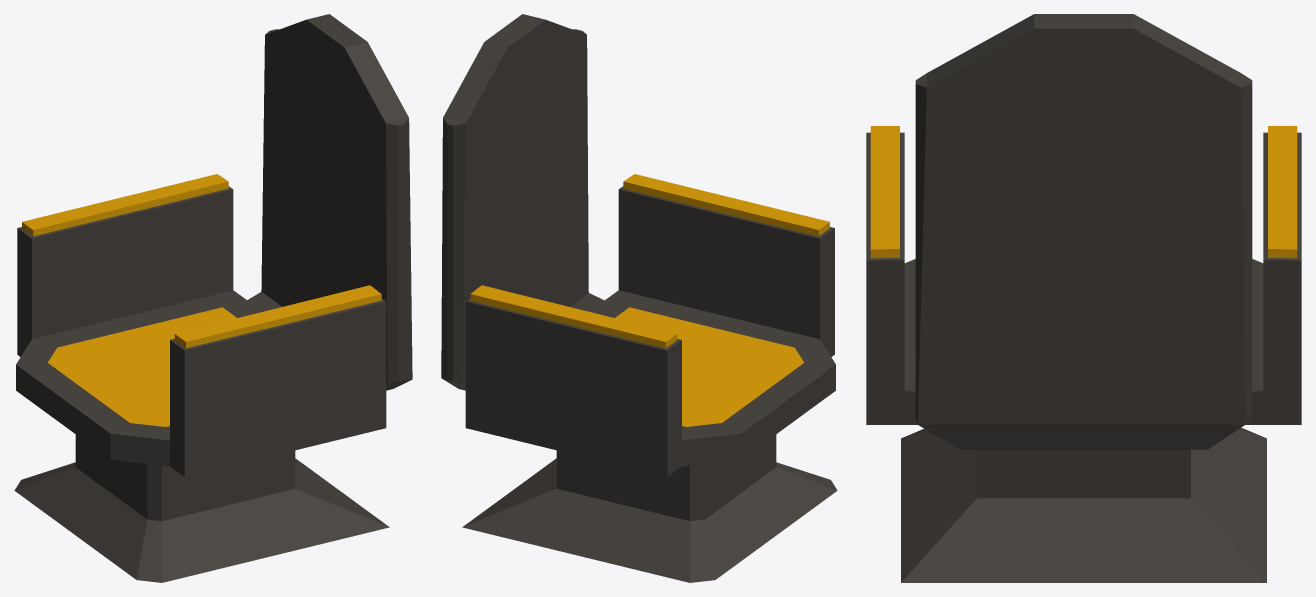
Rendered from Chair2.fbx.
3 views of the same model, side by side, from view 1: azimuth 30°, elevation 25°; view 2: azimuth 150°, elevation 25°; view 3: azimuth 270°, elevation 25° (orthographic). The views are drawn at different scales.
Parts seen in each view (by area): view 1: Cube.007; view 2: Cube.007; view 3: Cube.007.
Boxes of the visible parts, x1=… form: Cube.007: x1=14, y1=14, x2=412, y2=582; Cube.007: x1=441, y1=14, x2=837, y2=582; Cube.007: x1=866, y1=14, x2=1301, y2=582.
Size of the model in its own units: 150 by 222 by 153.
